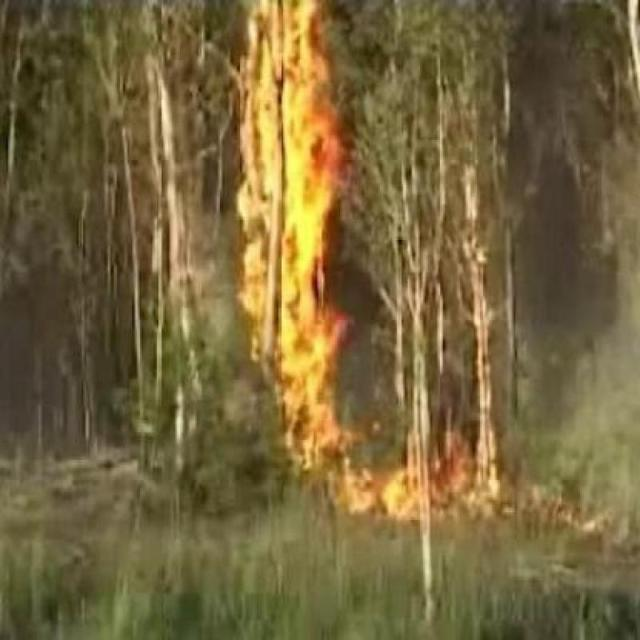Fire: (209, 0, 437, 526)
